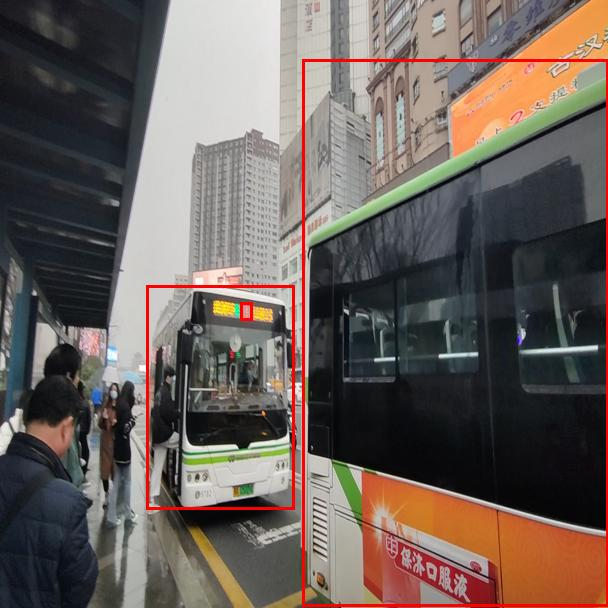bus: (302, 59, 608, 606), (146, 285, 294, 509)
screen: (240, 302, 252, 320)
